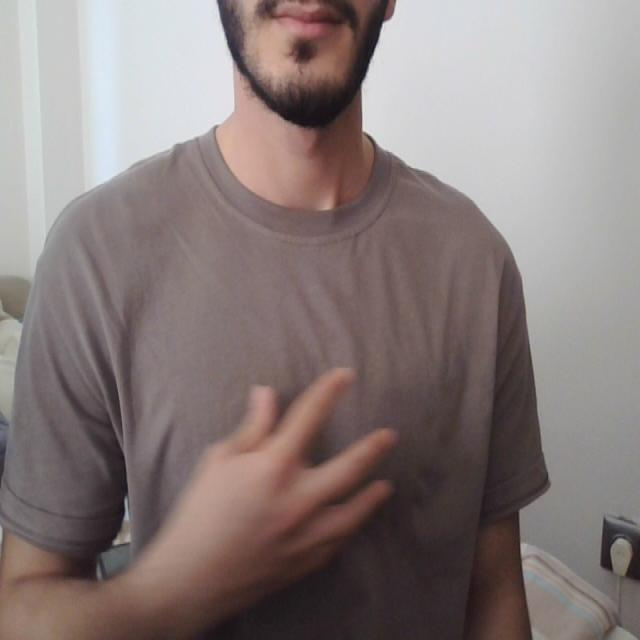Anne: (117, 360, 478, 598)
